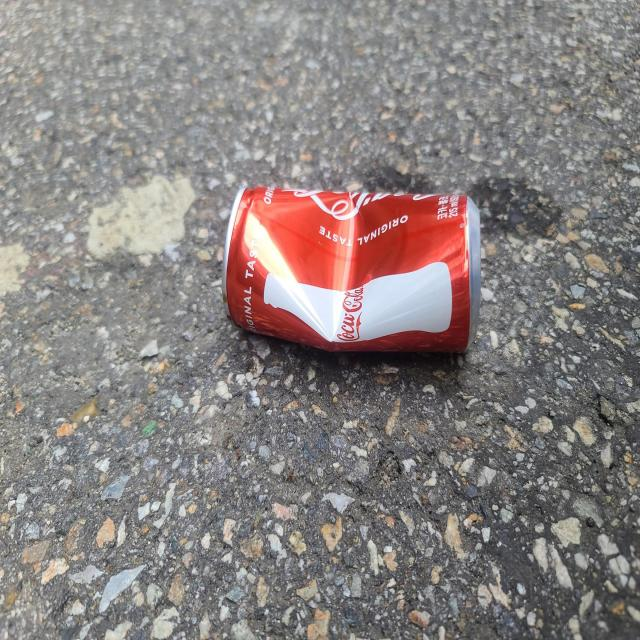can: (222, 186, 481, 351)
